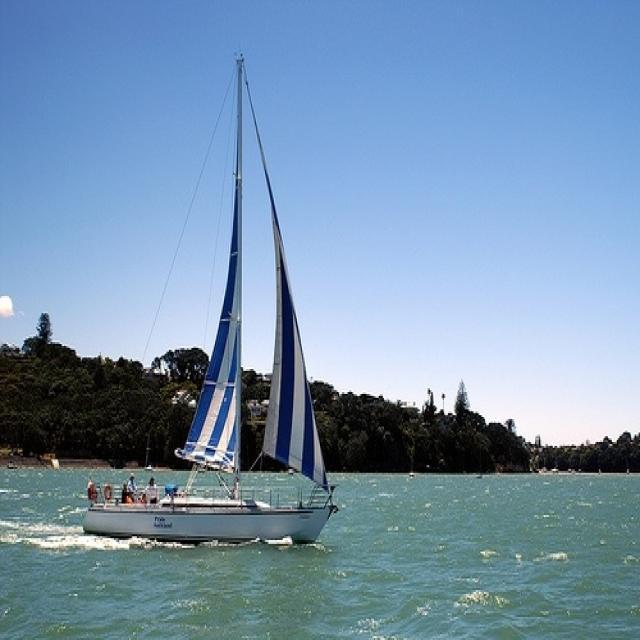Ship: (78, 53, 339, 540)
